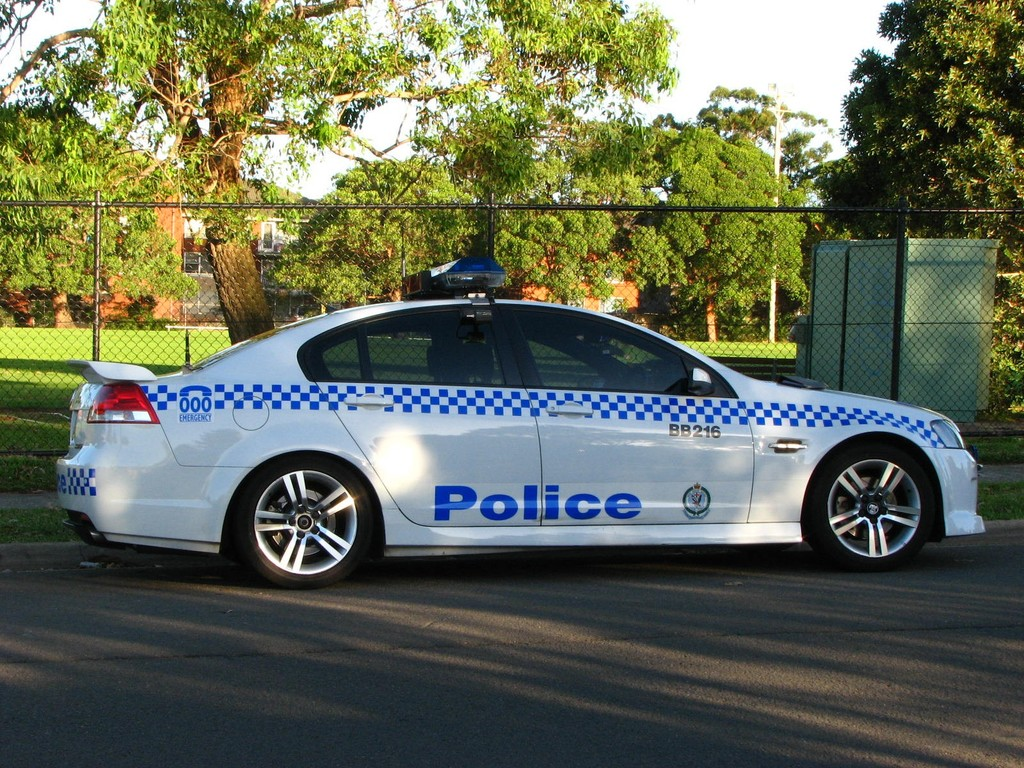mobil: (79, 265, 987, 582)
